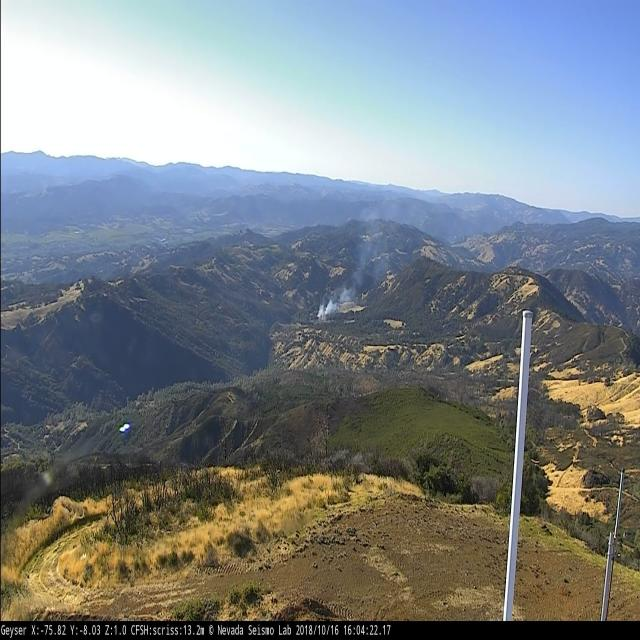smoke: (317, 284, 355, 318)
